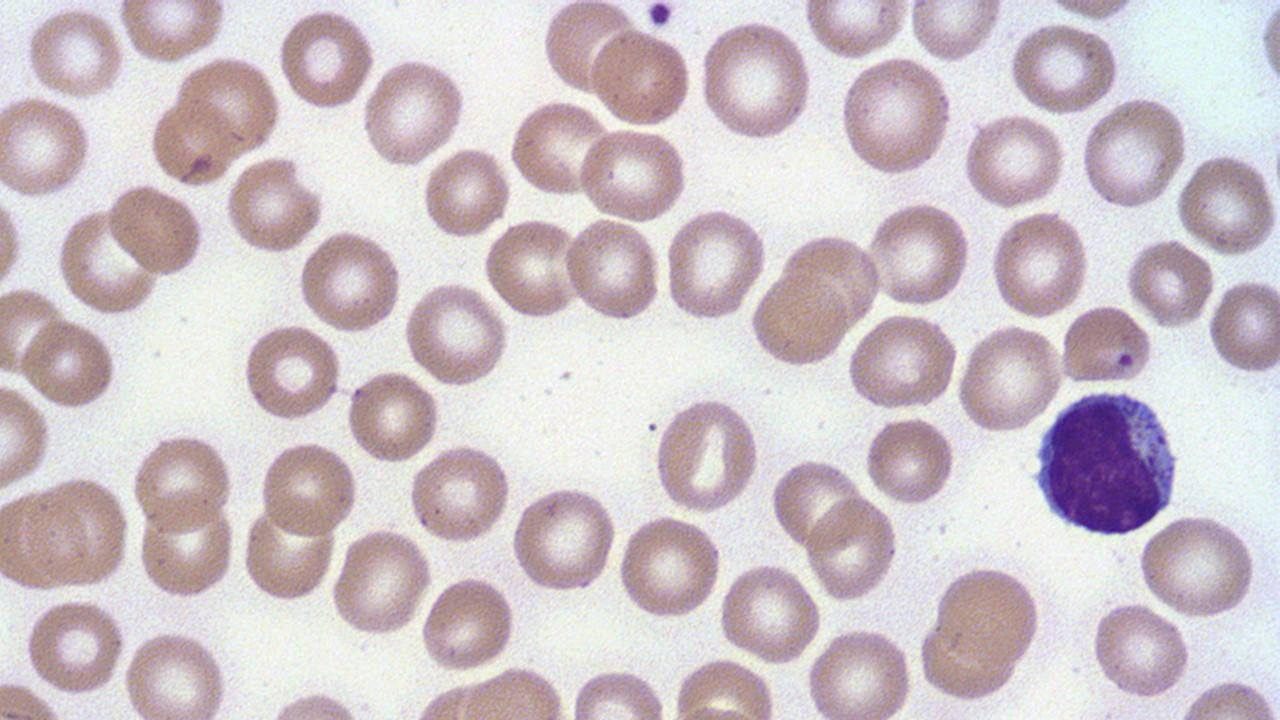Platelets: (642, 0, 678, 29)
RBC: (696, 15, 814, 143), (838, 53, 954, 179), (652, 393, 762, 516), (1136, 512, 1260, 620), (954, 321, 1067, 435), (1080, 95, 1190, 211), (508, 482, 620, 594), (21, 476, 132, 589), (929, 562, 1047, 668), (662, 205, 767, 324), (360, 55, 469, 168), (862, 199, 974, 308), (986, 206, 1091, 320), (845, 311, 960, 414), (400, 280, 510, 387), (617, 512, 724, 622), (328, 526, 432, 639), (716, 558, 822, 667), (55, 206, 160, 316), (128, 430, 236, 536), (296, 228, 404, 334), (1174, 150, 1278, 260), (174, 54, 282, 158), (274, 6, 378, 113), (576, 126, 690, 223), (588, 25, 694, 129), (480, 216, 584, 322), (21, 595, 129, 697), (561, 216, 662, 325), (406, 443, 512, 546), (804, 623, 918, 718), (506, 96, 610, 200), (1087, 601, 1195, 701), (802, 494, 900, 604), (1008, 21, 1121, 116), (254, 439, 359, 540), (960, 111, 1068, 209), (221, 156, 326, 256), (748, 270, 854, 368), (240, 322, 342, 423), (120, 626, 234, 716), (104, 181, 207, 279), (417, 576, 519, 674), (0, 93, 94, 199), (238, 505, 337, 605), (22, 5, 126, 100), (136, 503, 236, 601), (343, 367, 441, 466), (539, 0, 638, 96), (916, 617, 1025, 703), (1123, 234, 1217, 333), (18, 318, 119, 410), (862, 412, 958, 508), (771, 454, 864, 552), (420, 146, 510, 241), (0, 488, 82, 591), (146, 97, 238, 188), (1057, 303, 1155, 385), (1208, 275, 1280, 379), (118, 2, 231, 68), (668, 654, 778, 719), (800, 2, 908, 62), (908, 2, 1006, 63), (0, 382, 54, 492), (0, 286, 63, 380), (0, 185, 27, 295), (1255, 0, 1279, 105), (1040, 0, 1148, 23)
WBC: (1030, 382, 1188, 538)
